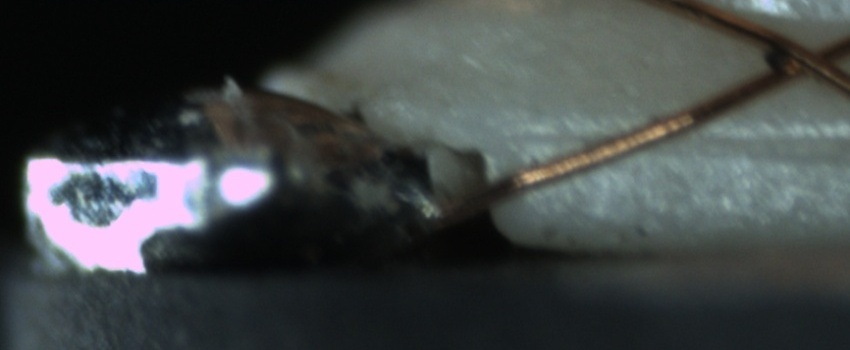CL: (754, 25, 848, 91)
DL: (525, 106, 841, 171)
